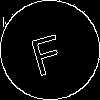F: (25, 25, 67, 77)
